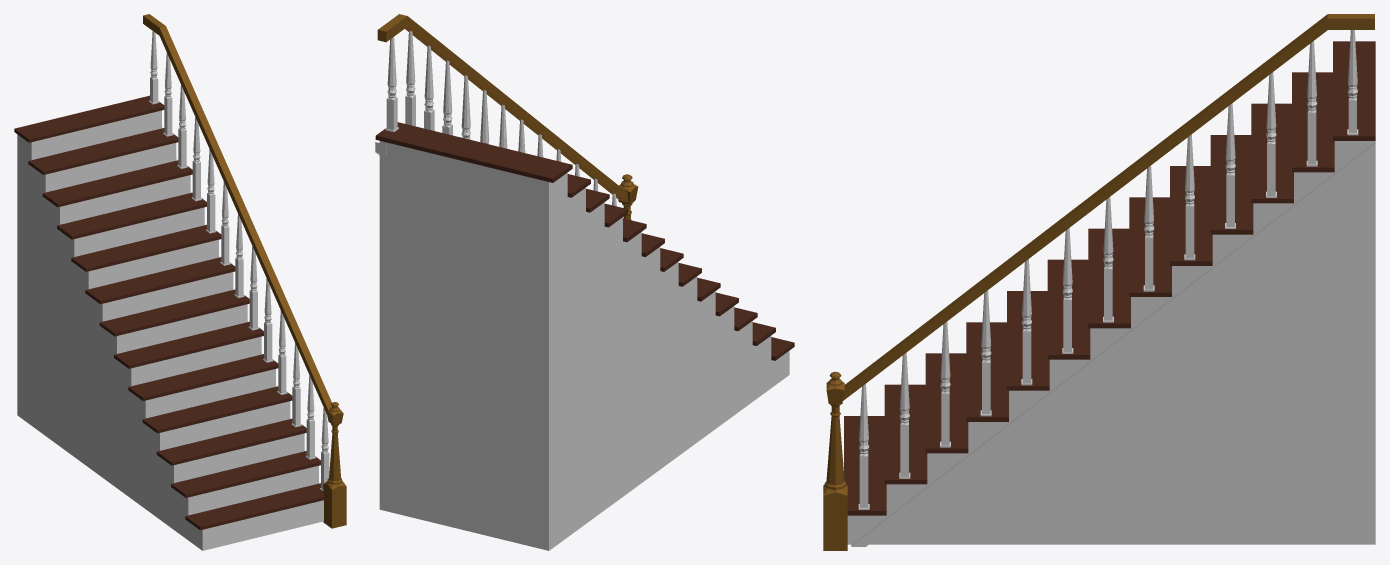
The model's file is StairsOld.glb.
3 renders of one model, left to right at view 1: azimuth 30°, elevation 25°; view 2: azimuth 150°, elevation 25°; view 3: azimuth 270°, elevation 25°, orthographic. The views are drawn at different scales.
Visible parts, largest first — view 1: Node; view 2: Node; view 3: Node.
Boxes of the visible parts, box(x1,y1,x2,y2) form: Node: box(14, 14, 346, 550); Node: box(375, 14, 794, 550); Node: box(823, 14, 1375, 550).
Size of the model in its own units: 5.64 by 14.34 by 13.56.
